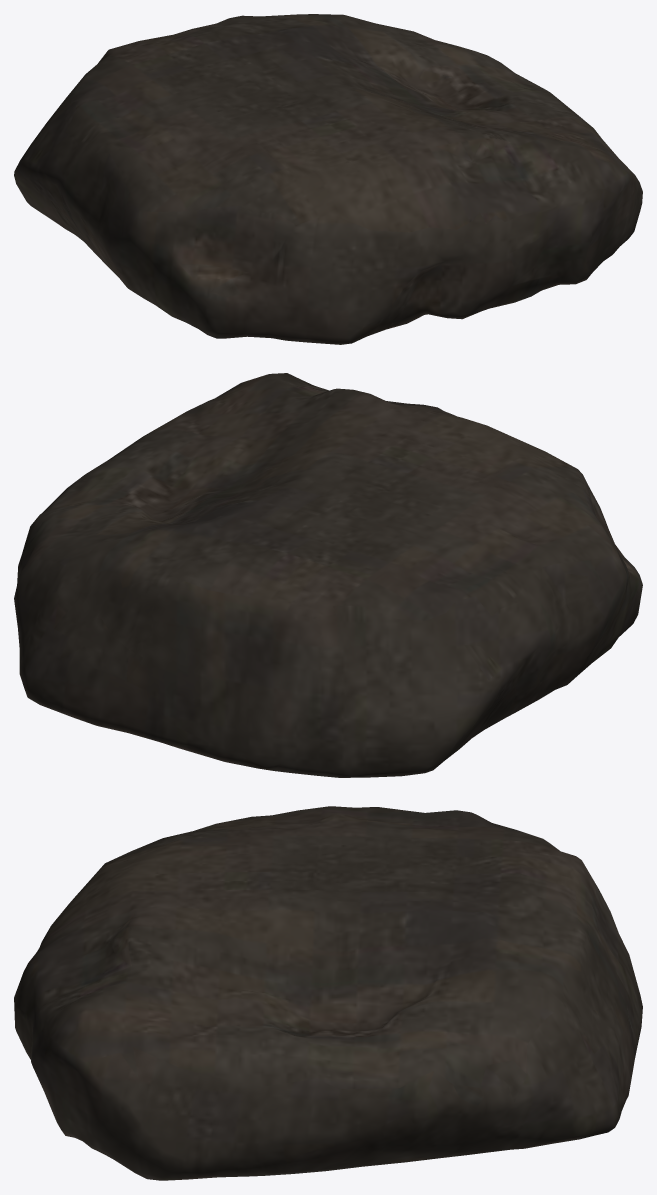
The model's file is SM_small_rock_01.glb.
The picture shows the model from 3 angles, top to bottom: view 1: azimuth 30°, elevation 25°; view 2: azimuth 150°, elevation 25°; view 3: azimuth 270°, elevation 25°; orthographic projection. The views are drawn at different scales.
Parts seen in each view (by area): view 1: SM_rock_01; view 2: SM_rock_01; view 3: SM_rock_01.
Boxes of the visible parts, bbox=[...] form: SM_rock_01: bbox=[14, 14, 642, 344]; SM_rock_01: bbox=[14, 373, 642, 777]; SM_rock_01: bbox=[14, 806, 642, 1180].
Bounding box in the file's own units: 0.2729 × 0.0816 × 0.2774.
1 material, 1 textured.
